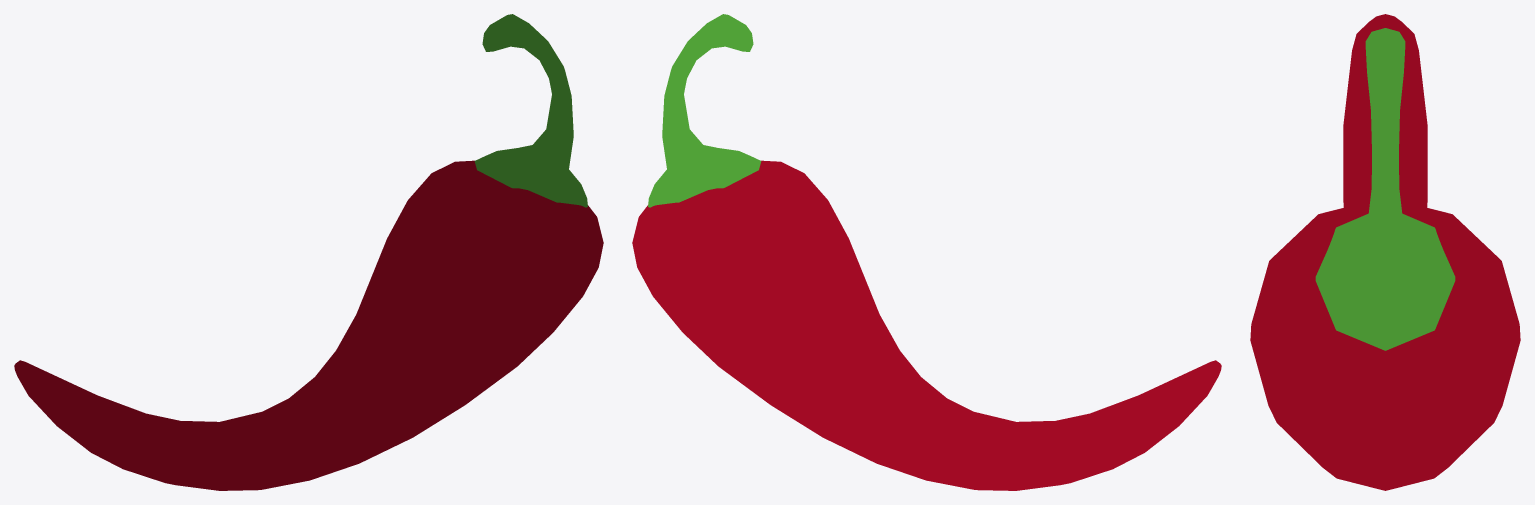
The model's file is chili_pepper.fbx.
3 renders of one model, left to right at view 1: azimuth 30°, elevation 25°; view 2: azimuth 150°, elevation 25°; view 3: azimuth 270°, elevation 25°, orthographic. The views are drawn at different scales.
Parts seen in each view (by area): view 1: layer 1, layer 2; view 2: layer 1, layer 2; view 3: layer 1, layer 2.
Part boxes in pixels (x1=…): layer 1: x1=14, y1=160, x2=603, y2=490; layer 2: x1=474, y1=14, x2=587, y2=207; layer 1: x1=632, y1=160, x2=1221, y2=490; layer 2: x1=648, y1=14, x2=761, y2=207; layer 1: x1=1250, y1=14, x2=1520, y2=490; layer 2: x1=1315, y1=28, x2=1455, y2=350.
Bounding box in the file's own units: 80 × 54.91 × 24.01.
